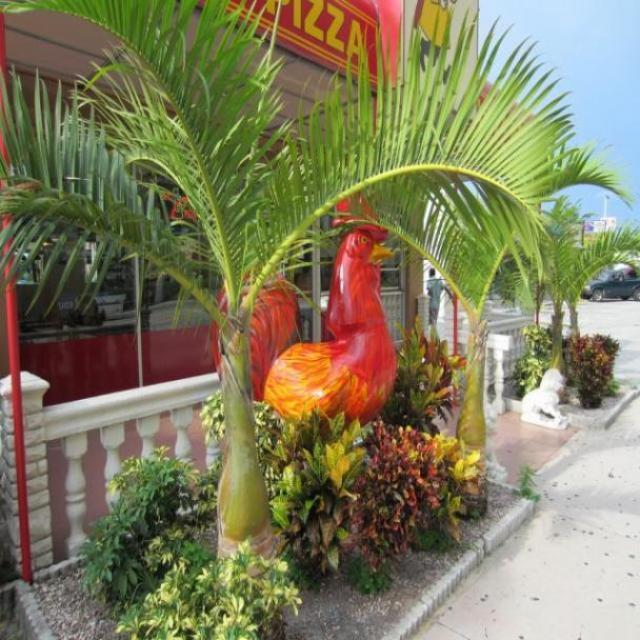Chicken: (258, 214, 421, 435)
